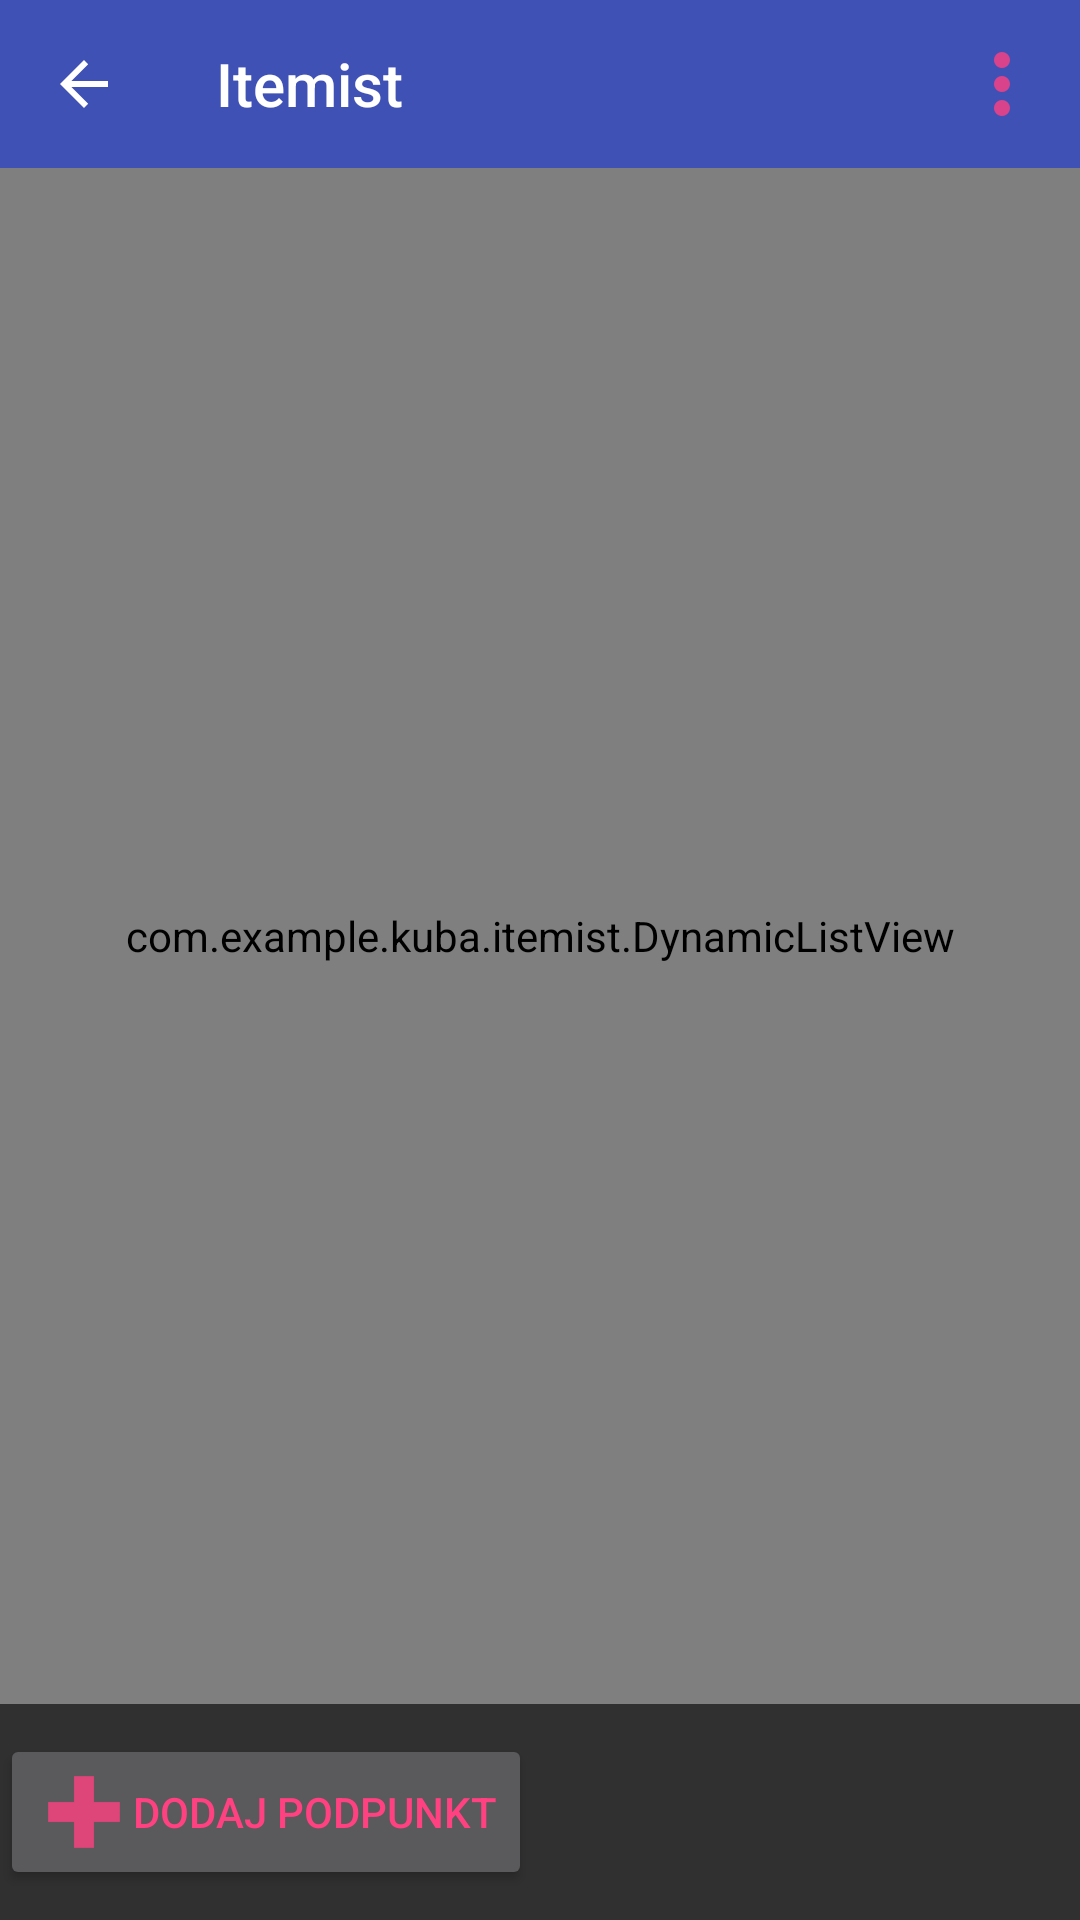

Named icons in this screenshot (1080x1920) and their centers, (x=x, y=y):
Przyciski wiecej: (x=1002, y=84)
